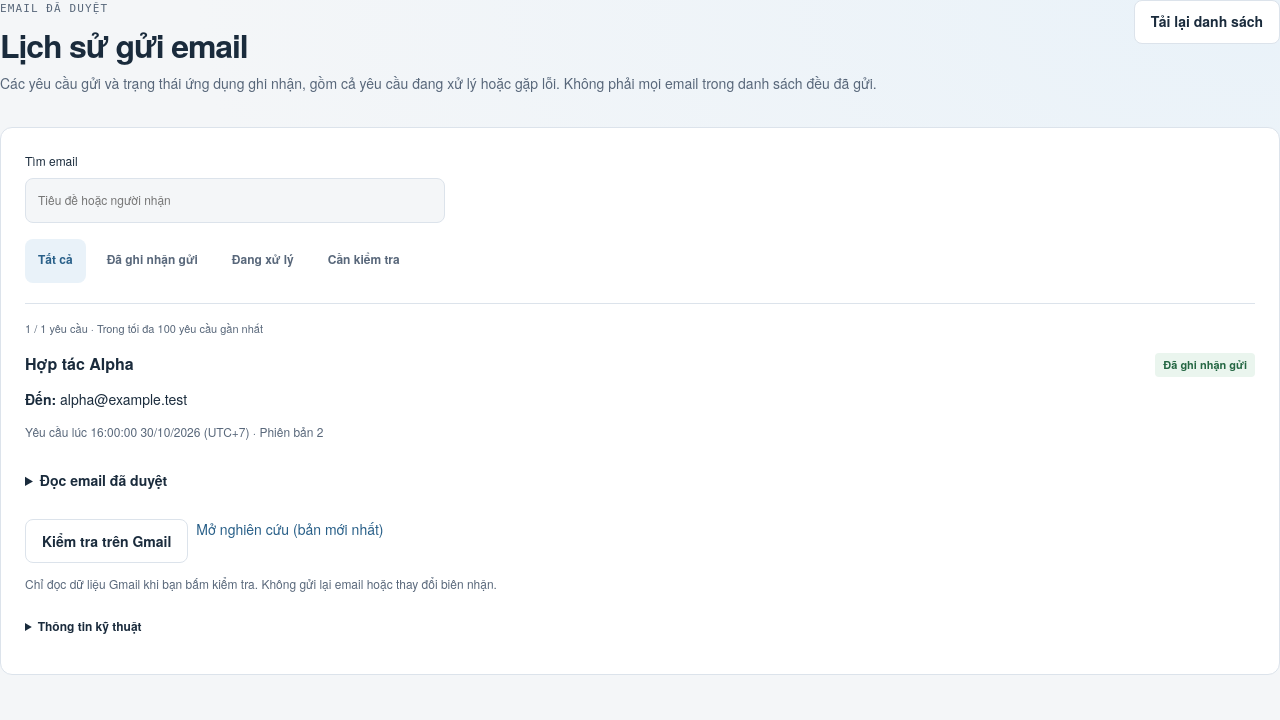
Scenario: sent history › explains content_expired without changing application status
Click the button "Kiểm tra trên Gmail" at (107, 541), box x1=25 y1=519 x2=188 y2=563
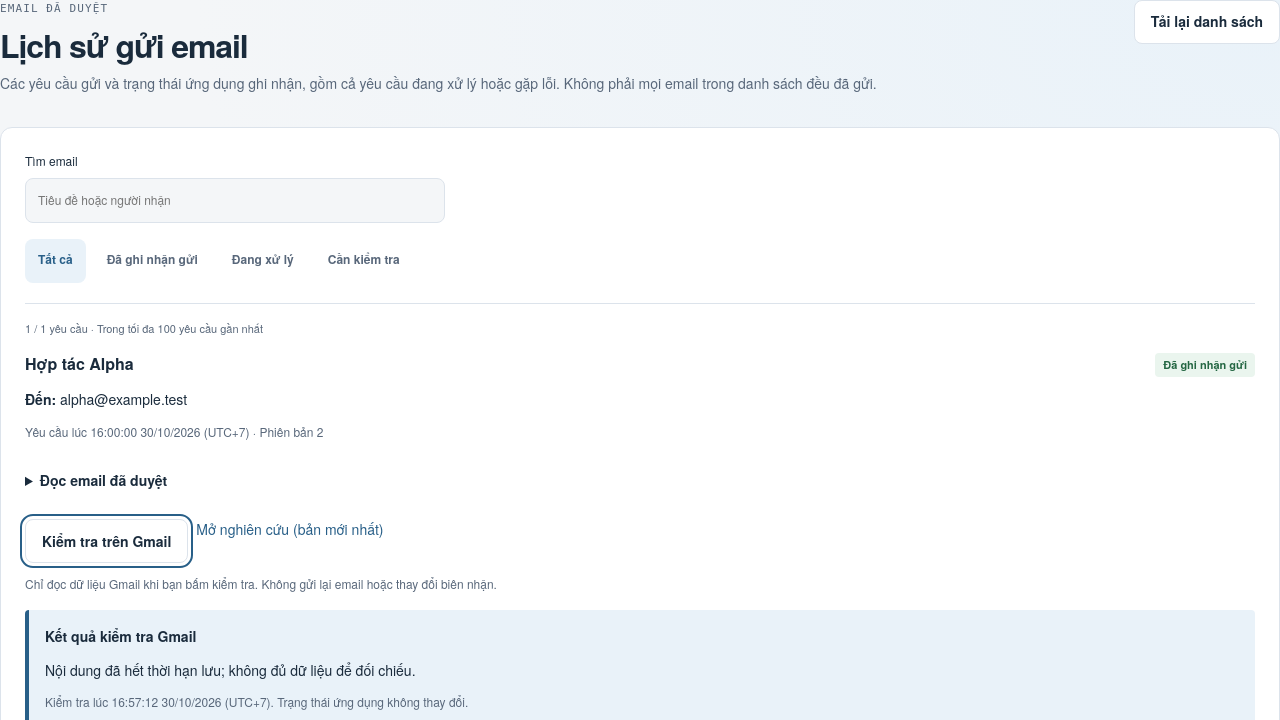
Expected: the text "Đã ghi nhận gửi" is shown, x1=1155 y1=353 x2=1255 y2=377
Expected: the text "Nội dung đã hết thời hạn lưu; không đủ dữ liệu để đối chiếu." is shown, x1=45 y1=660 x2=416 y2=680
